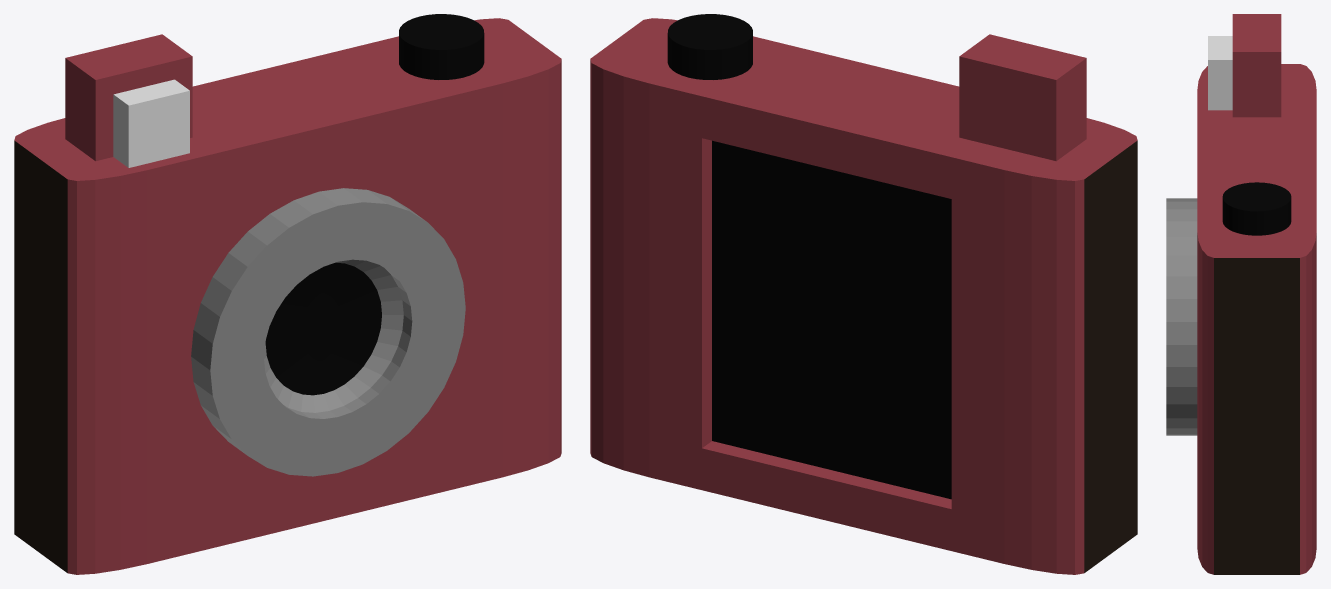
File: Camara.fbx
The picture shows the model from 3 angles, left to right: view 1: azimuth 30°, elevation 25°; view 2: azimuth 150°, elevation 25°; view 3: azimuth 270°, elevation 25°; orthographic projection. The views are drawn at different scales.
Visible parts, largest first — view 1: photoCamera; view 2: photoCamera; view 3: photoCamera.
Part boxes in pixels (left/top/right/bottom): photoCamera: left=14, top=14, right=561, bottom=574; photoCamera: left=590, top=14, right=1137, bottom=574; photoCamera: left=1166, top=14, right=1316, bottom=574.
Size of the model in its own units: 6468 by 5943 by 2121.
